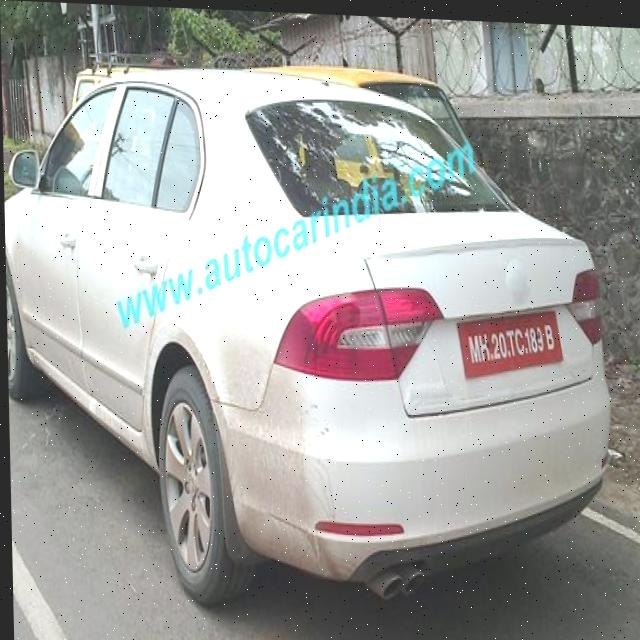plate: (454, 298, 563, 380)
